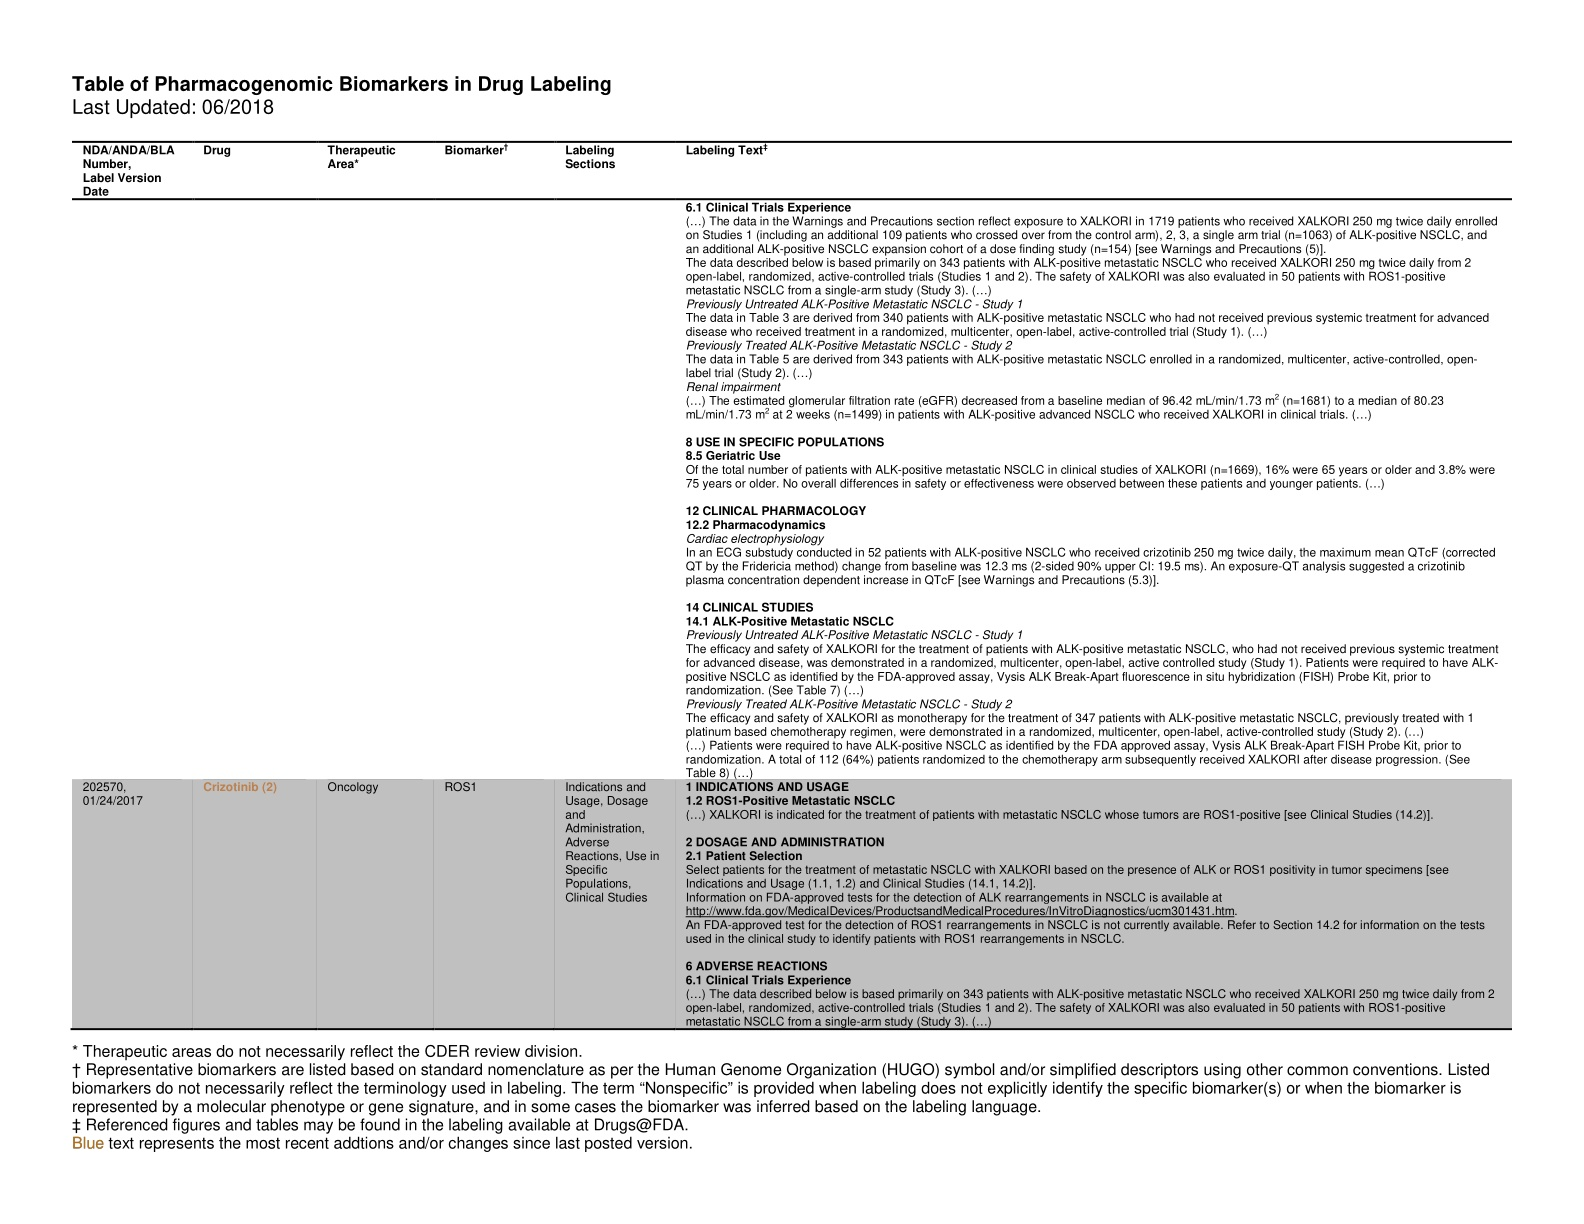partial_lined: (69, 140, 1513, 1031)
